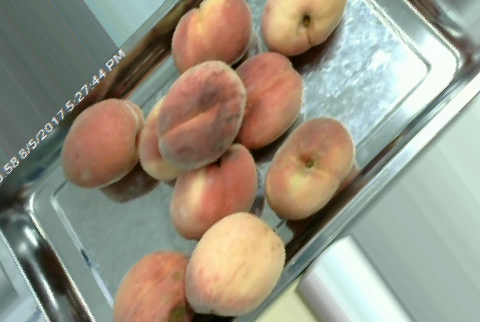Peach: (185, 211, 286, 316), (158, 61, 248, 170), (267, 114, 353, 220), (171, 143, 257, 236), (59, 99, 143, 188), (228, 53, 307, 141), (171, 0, 257, 71), (111, 247, 192, 322), (259, 0, 349, 52)
